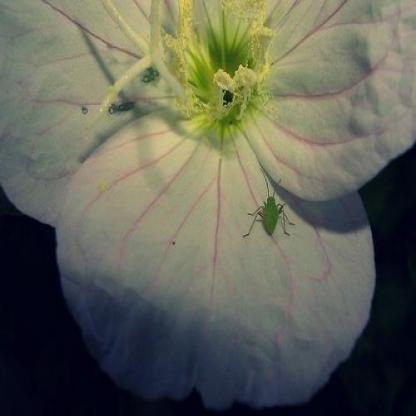aphid: (242, 167, 297, 240)
